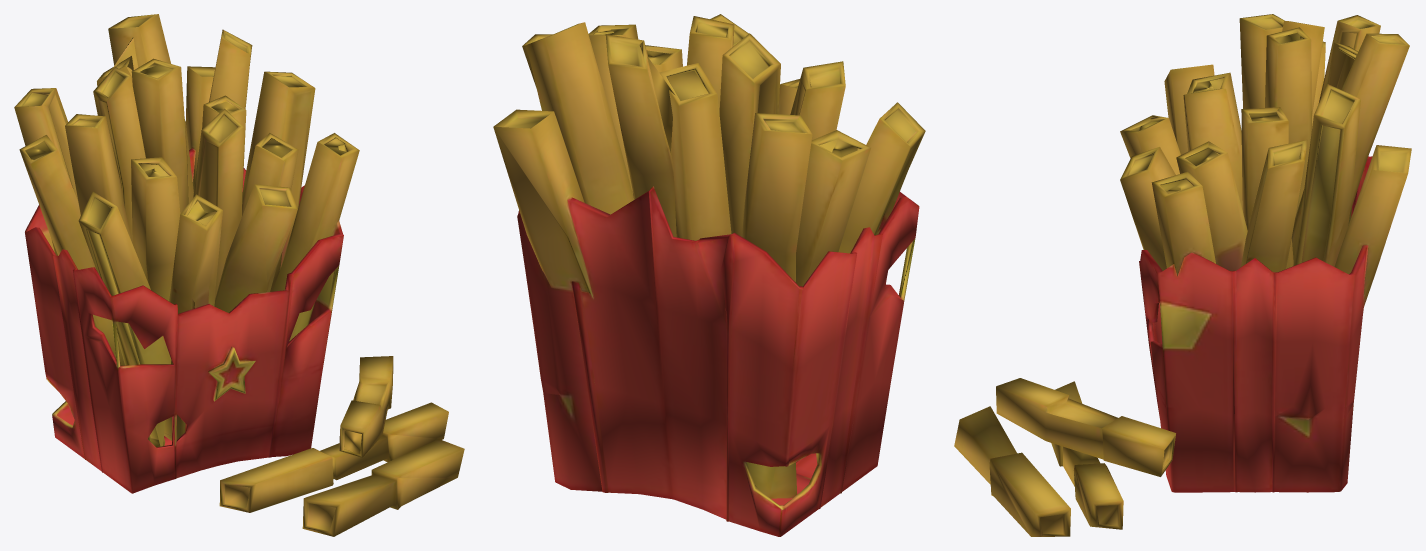
Rendered from 레벨1_감자튀김.glb.
3 renders of one model, left to right at view 1: azimuth 30°, elevation 25°; view 2: azimuth 150°, elevation 25°; view 3: azimuth 270°, elevation 25°, orthographic. The views are drawn at different scales.
Visible parts, largest first — view 1: tripo_node_995b27bb-9af4-4fbf-9ac2-852ddd1d96d6; view 2: tripo_node_995b27bb-9af4-4fbf-9ac2-852ddd1d96d6; view 3: tripo_node_995b27bb-9af4-4fbf-9ac2-852ddd1d96d6.
Boxes of the visible parts, x1,y1,x2,y2 form: tripo_node_995b27bb-9af4-4fbf-9ac2-852ddd1d96d6: (14, 14, 464, 536); tripo_node_995b27bb-9af4-4fbf-9ac2-852ddd1d96d6: (493, 14, 925, 536); tripo_node_995b27bb-9af4-4fbf-9ac2-852ddd1d96d6: (954, 14, 1411, 536).
Size of the model in its own units: 0.8964 by 0.998 by 0.9864.
1 material, 1 textured.
